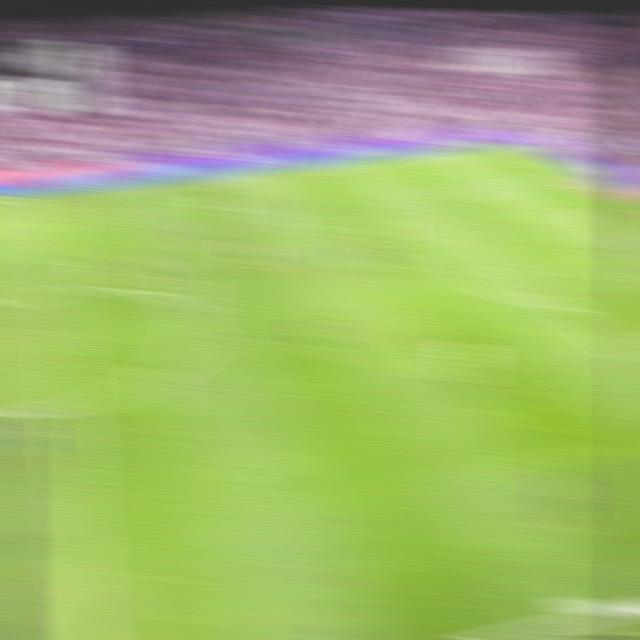bigarea_top_inner: (410, 190, 441, 205)
bigarea_top_outter: (554, 169, 585, 183)
bottom_arc_area_intersection: (550, 299, 583, 317)
corner: (492, 140, 524, 150)
halfcircle_bottom: (51, 391, 89, 421)
halfcircle_top: (42, 277, 79, 304)
midline_top_intersection: (37, 188, 69, 204)
smallarea_top_inner: (569, 212, 600, 224)
top_arc_area_intersection: (464, 231, 496, 248)
